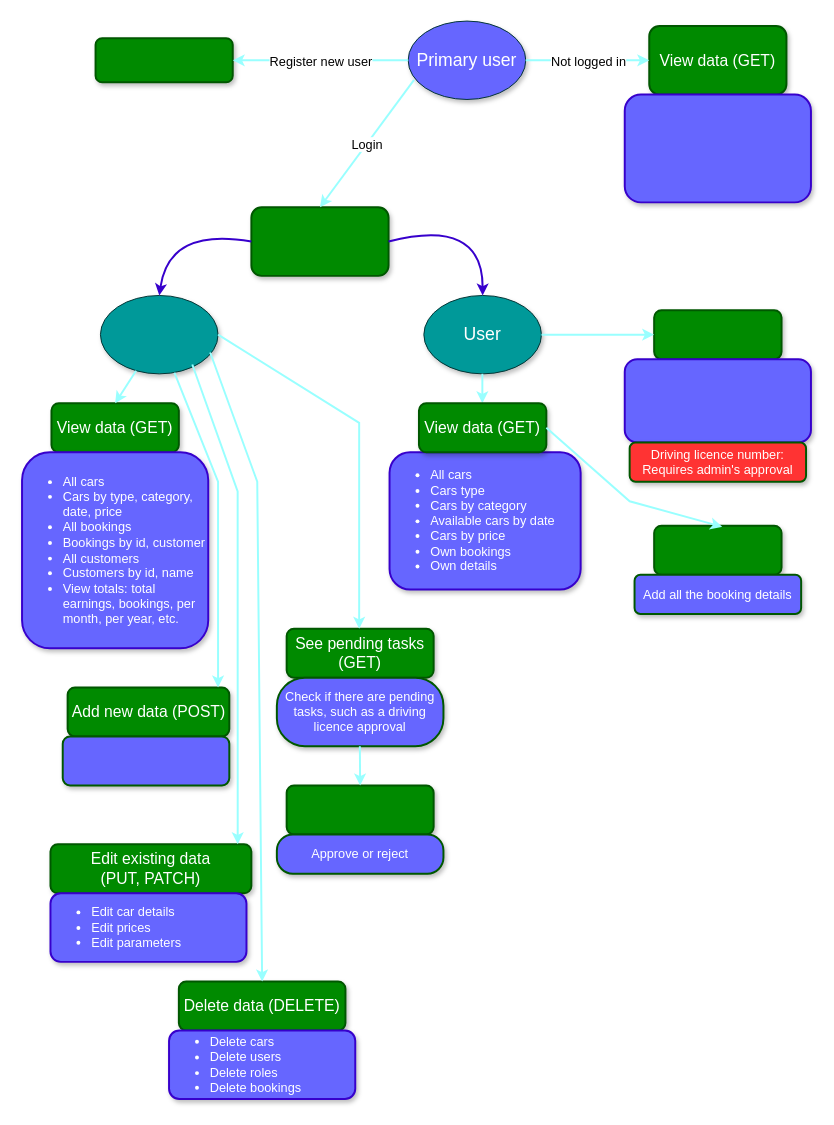
Some shapes in this 834 by 1125 pixel diagram are drawn without their labels. The centre of each missing label's shape, as x and y in pixels:
Add new entries: cars, bookings, users, roles: the point at 146,762
Admin: the point at 160,336
All cars Cars by category Available cars by date Cars by price: the point at 718,149
Autentication Authorization: the point at 320,242
Complete pending tasks (POST): the point at 360,811
Edit own data (PATCH): the point at 718,336
Name, surname Email Telephone number: the point at 718,402
New booking (POST): the point at 718,551
New user created: the point at 164,61
